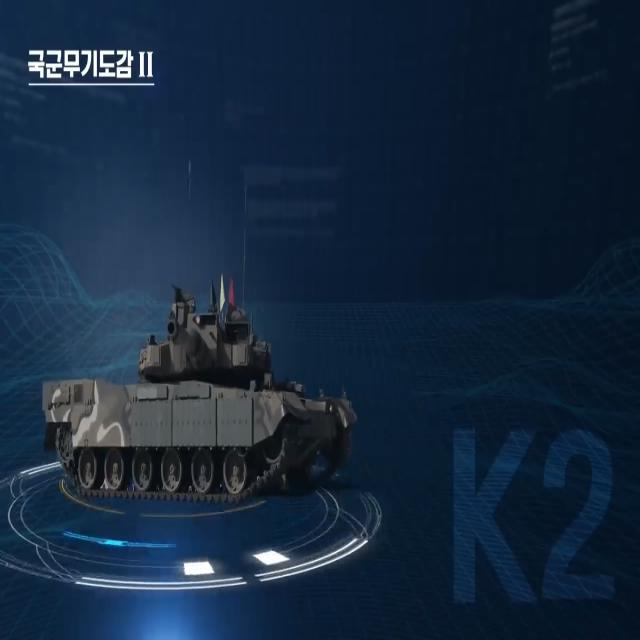korea tank: (43, 268, 360, 506)
